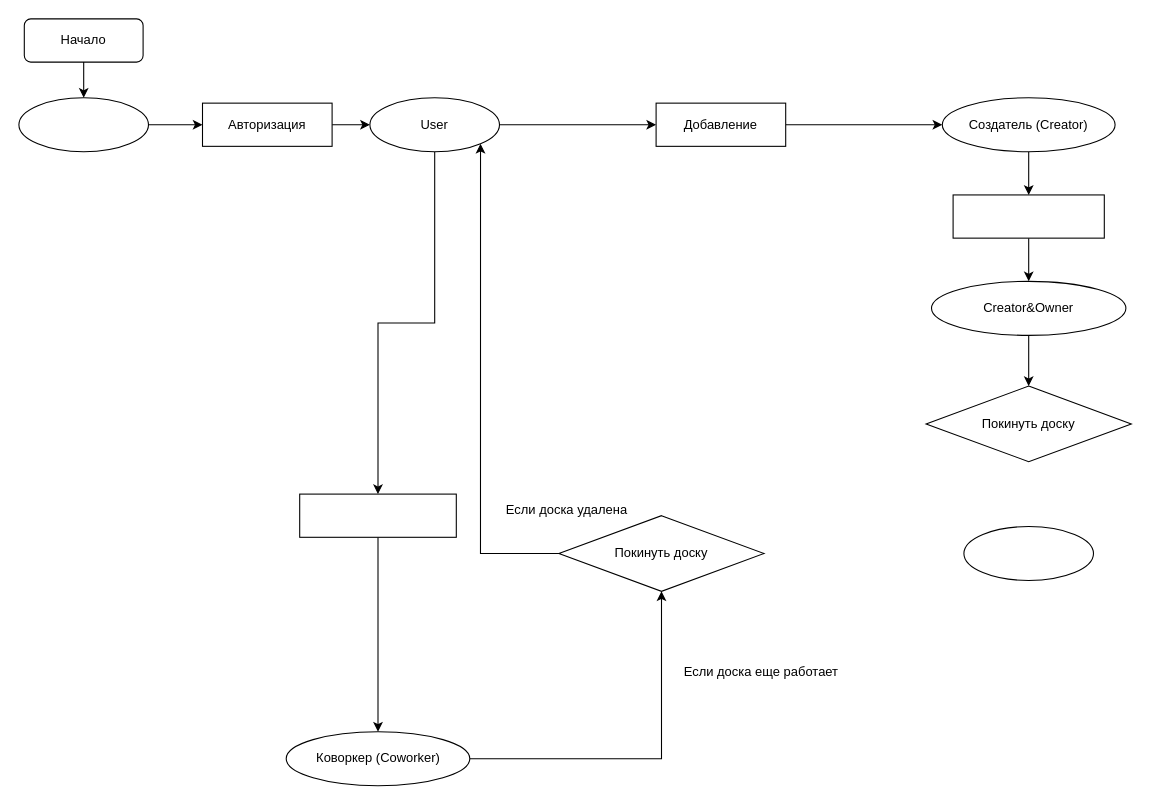
This 1150x805 diagram has some shape labels left out. The shapes that lost their labels are listed below. From the top down, each one's box as (x1, y1, x2, y2) in pixels, then its label:
(18, 97, 148, 152): Гость
(952, 194, 1104, 238): Добавление user
(299, 493, 456, 537): Присоединение к доске
(963, 525, 1094, 580): Owner
